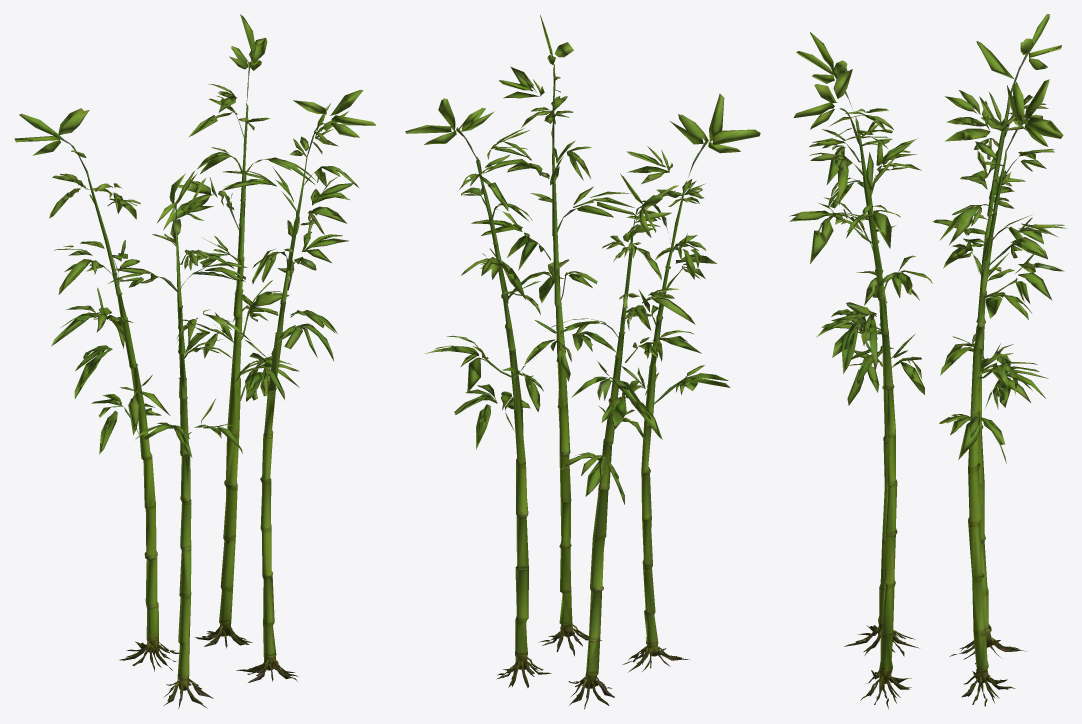
Rendered from Zhu_4.glb.
3 renders of one model, left to right at view 1: azimuth 30°, elevation 25°; view 2: azimuth 150°, elevation 25°; view 3: azimuth 270°, elevation 25°, orthographic. The views are drawn at different scales.
Parts seen in each view (by area): view 1: tripo_node_43eea580-8635-4fc5-9f6c-ffe4721f009d; view 2: tripo_node_43eea580-8635-4fc5-9f6c-ffe4721f009d; view 3: tripo_node_43eea580-8635-4fc5-9f6c-ffe4721f009d.
Part boxes in pixels (left/top/right/bottom): tripo_node_43eea580-8635-4fc5-9f6c-ffe4721f009d: left=14, top=14, right=375, bottom=708; tripo_node_43eea580-8635-4fc5-9f6c-ffe4721f009d: left=405, top=15, right=760, bottom=709; tripo_node_43eea580-8635-4fc5-9f6c-ffe4721f009d: left=789, top=14, right=1066, bottom=709.
Size of the model in its own units: 0.4551 by 0.998 by 0.3926.
1 material, 1 textured.
